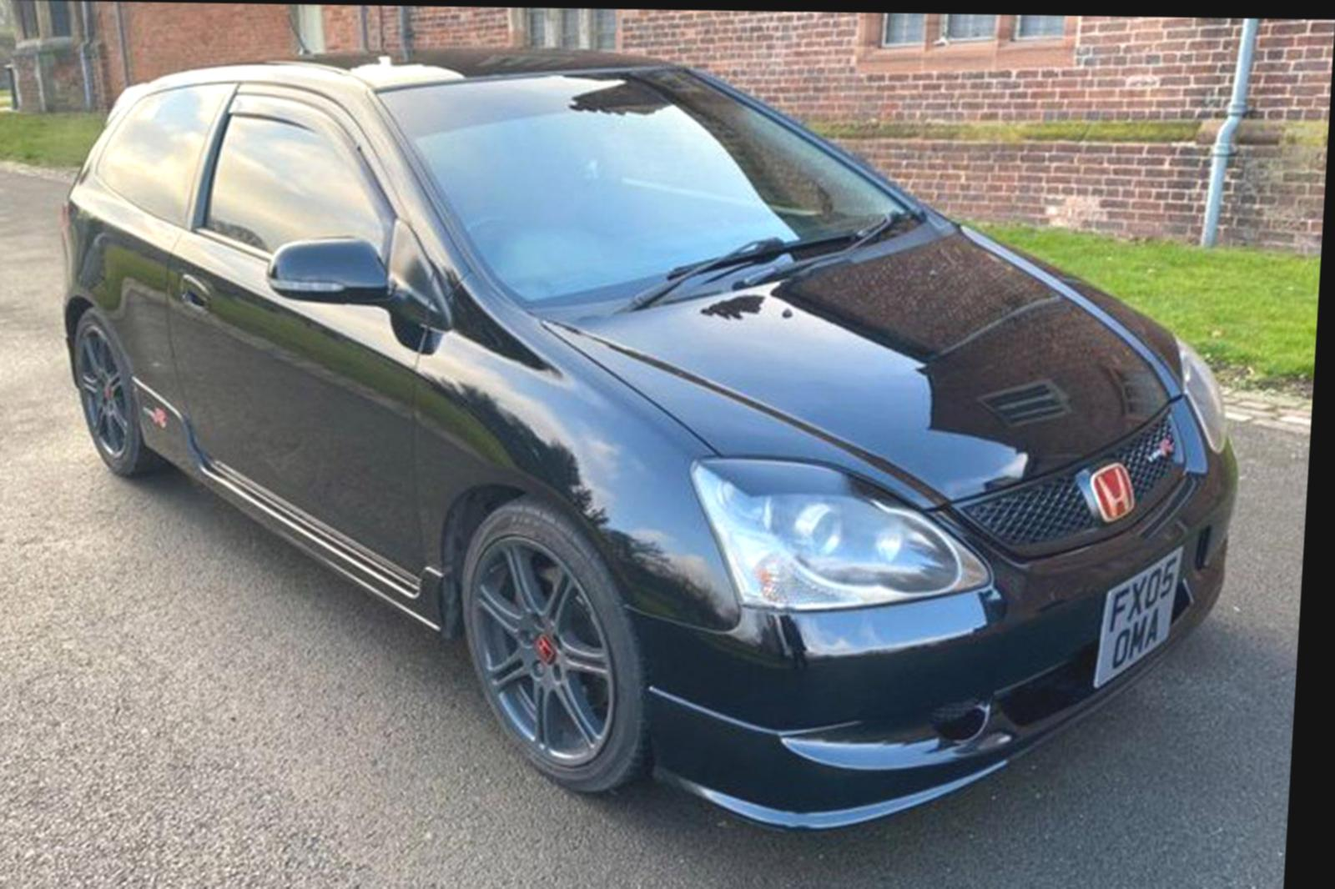License_Plate: (1084, 540, 1197, 695)
